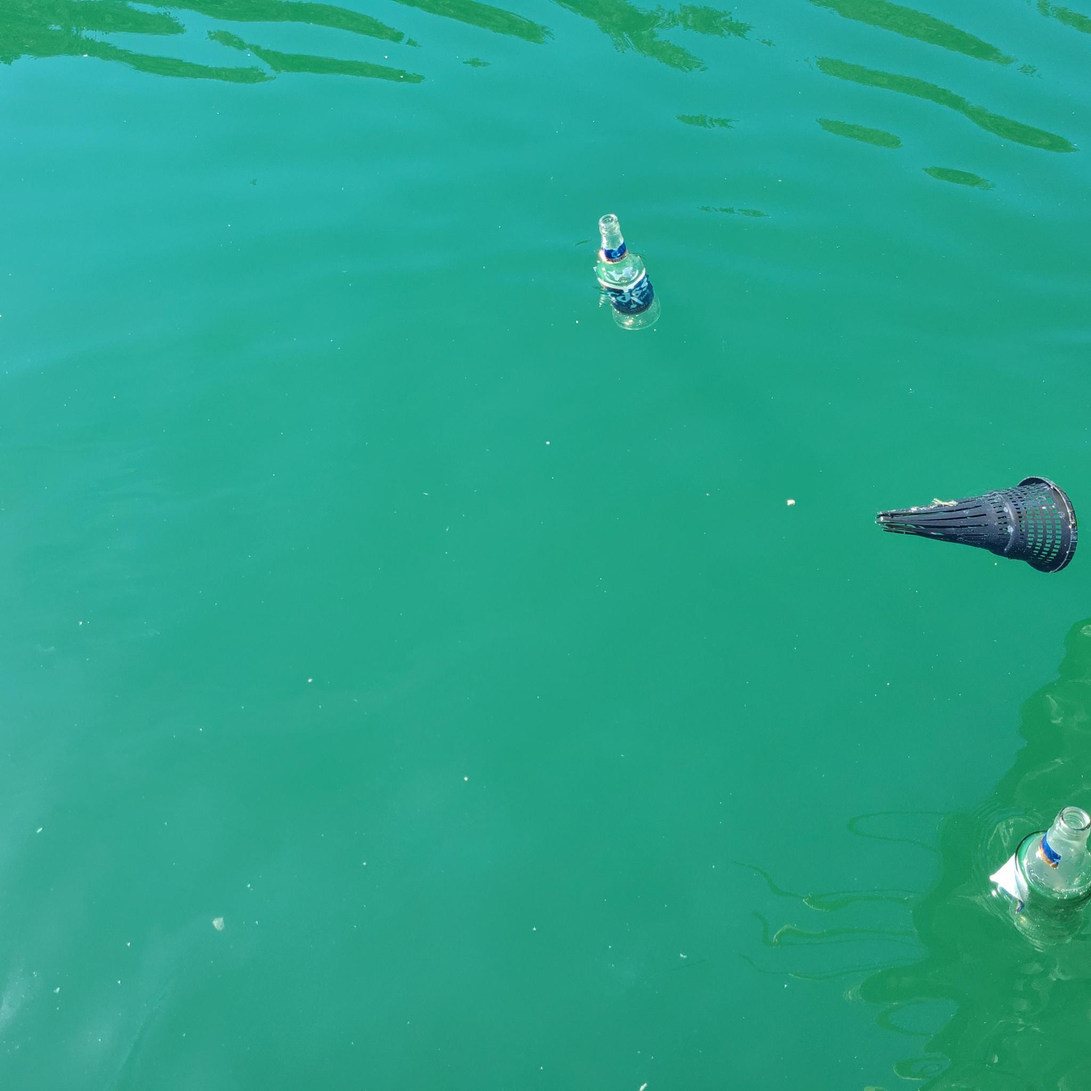sampah_terapung: (875, 477, 1079, 576), (1016, 807, 1091, 911), (596, 214, 662, 331)
